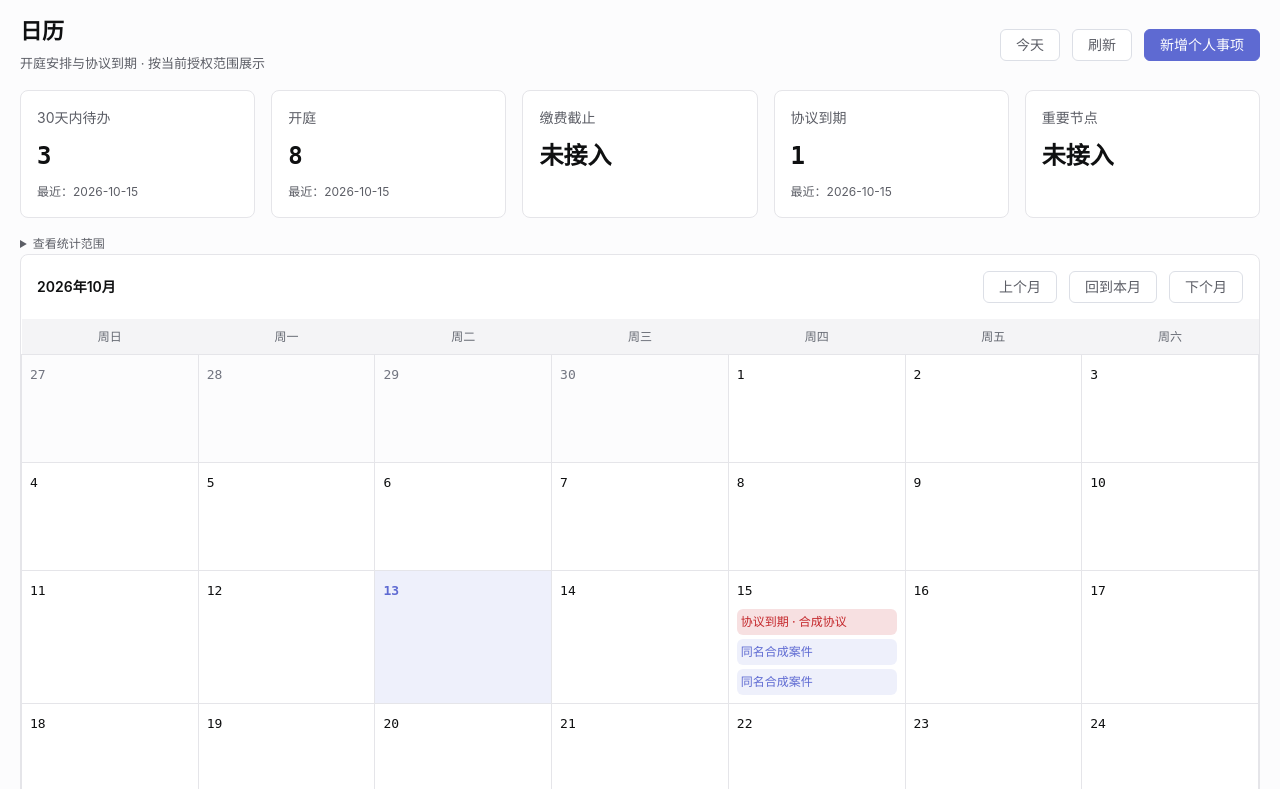
Test case: CalendarPage › removes stale events, tooltip and statistics after HTTP 401 and can recover
Focus the 1st button "同名合成案件" at (817, 652), box x1=737 y1=639 x2=896 y2=665
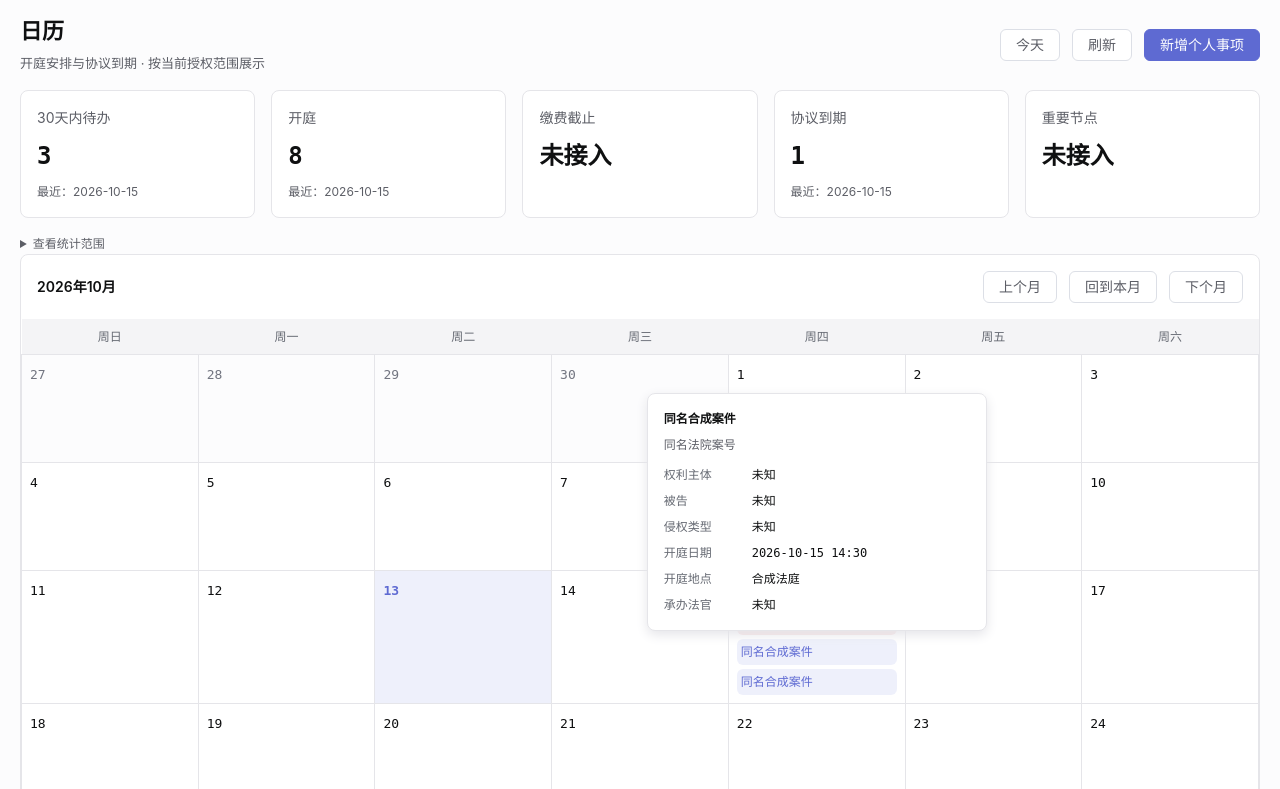
Click the button with aria-label "刷新日历".
click(1102, 45)  # box x1=1072 y1=29 x2=1132 y2=61
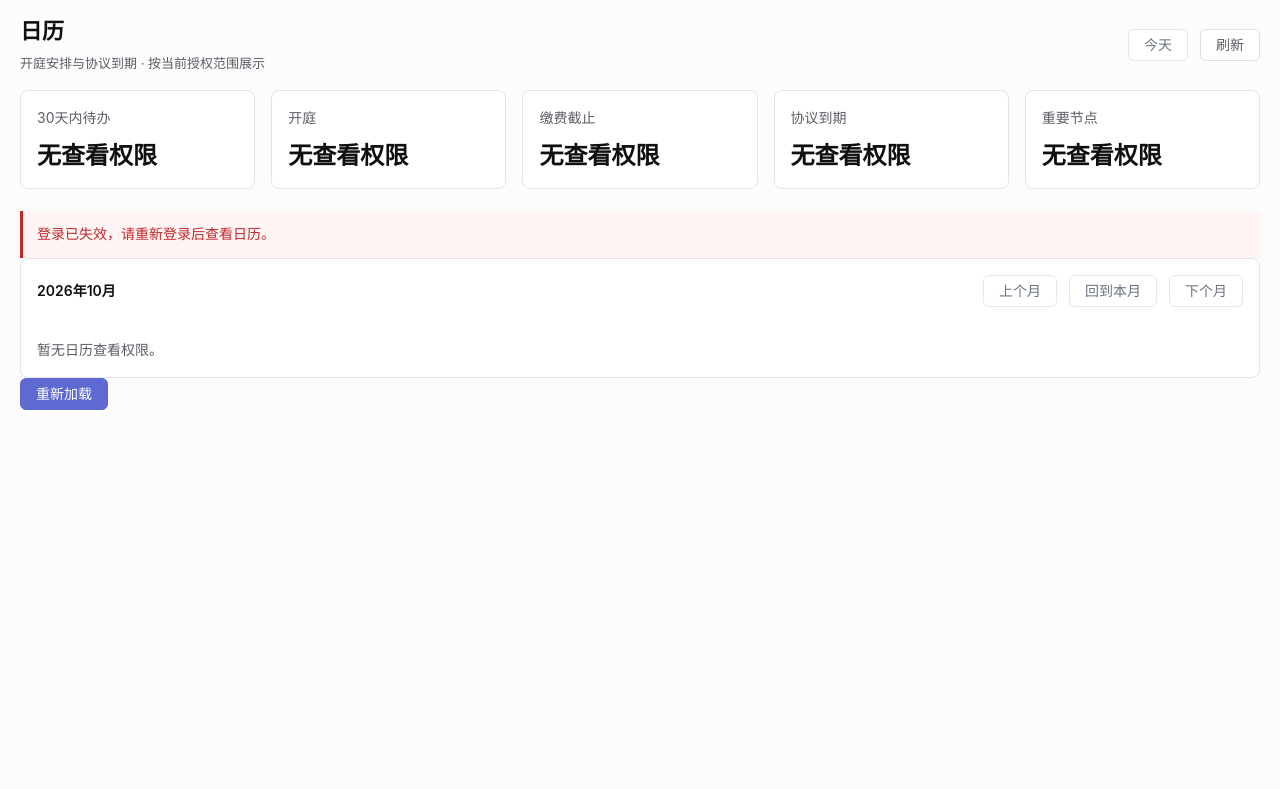
expect the tooltip "同名合成案件 同名法院案号 权利主体 未知 被告 未知 侵权类型 未知 开庭日期 2026-10-15 14:30 开庭地点 合成法庭 承办法官 未知" is gone: met
expect the text "同名合成案件" is gone: met
expect the 2nd text "无查看权限" is shown: met, box x1=288 y1=142 x2=408 y2=170
Click the button "重新加载".
click(64, 394)  # box x1=20 y1=378 x2=108 y2=410
(page scrolled)
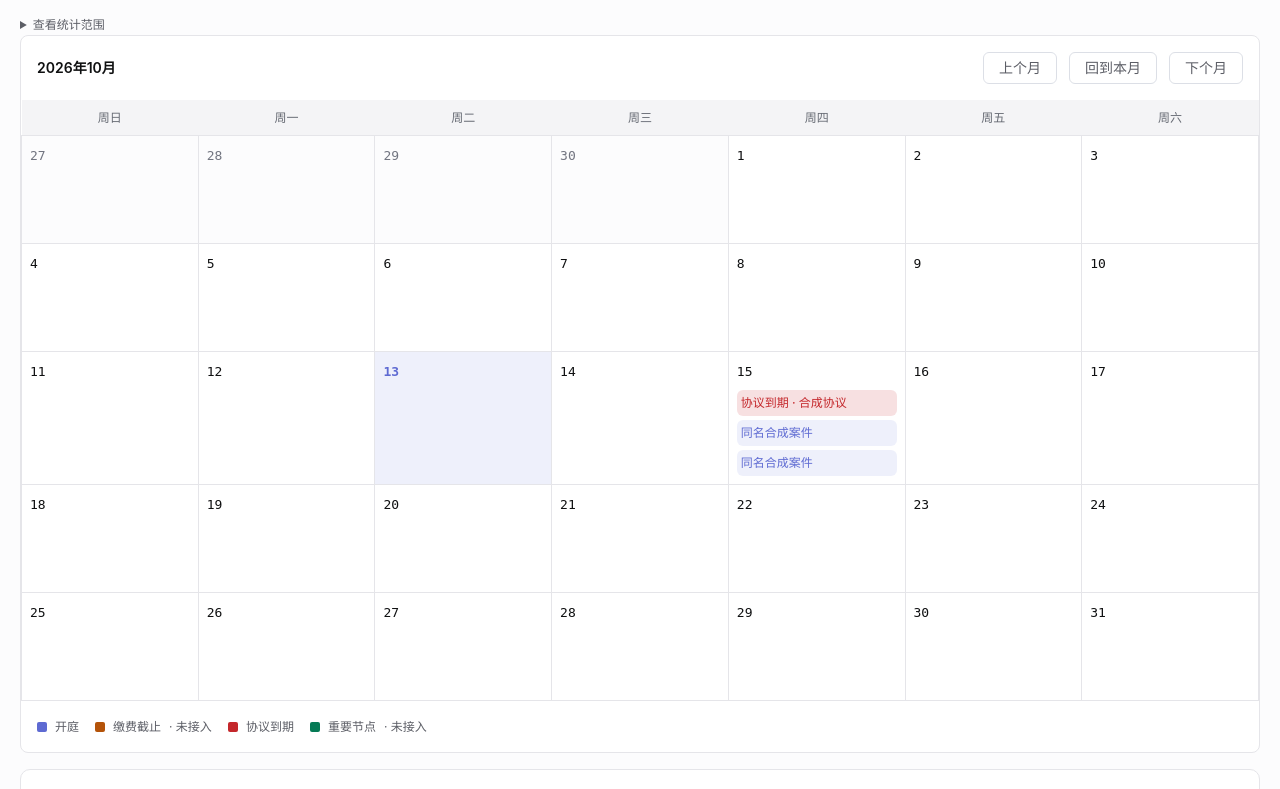
expect the table is shown: met
